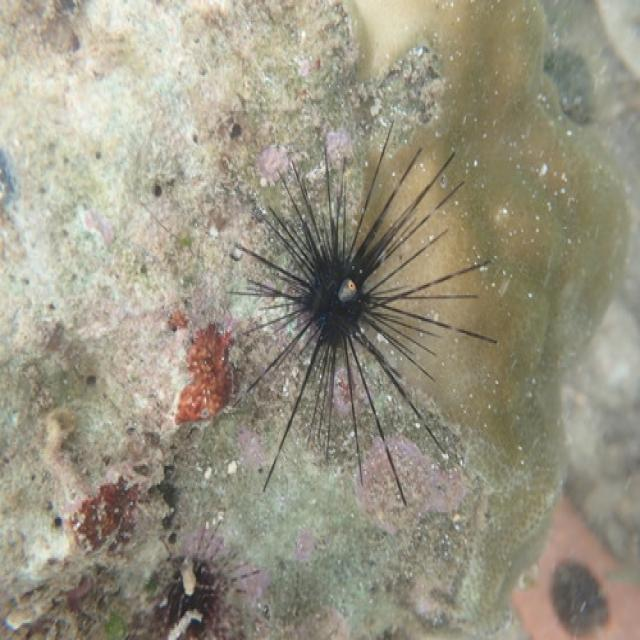Urchin: (229, 121, 497, 507)
